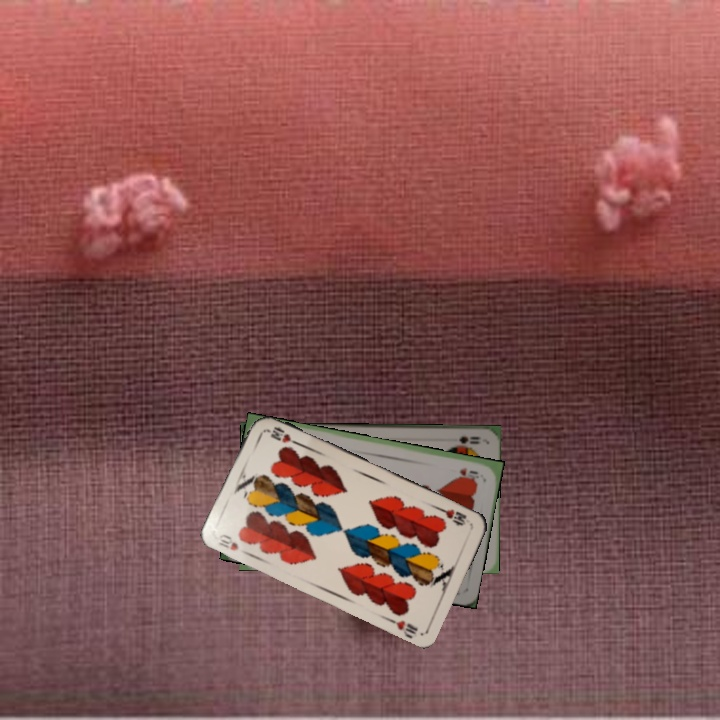H10: (214, 530, 251, 557), (435, 504, 469, 528)
HO: (456, 463, 481, 481)
SO: (455, 433, 484, 447)
